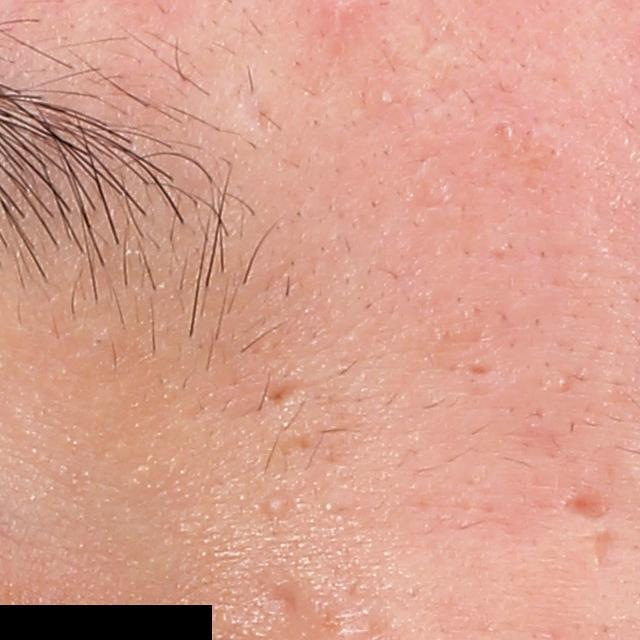atrophic_scar: (559, 489, 624, 524), (260, 380, 303, 409), (591, 528, 613, 576), (467, 363, 495, 377)
comedo: (259, 492, 294, 523)
